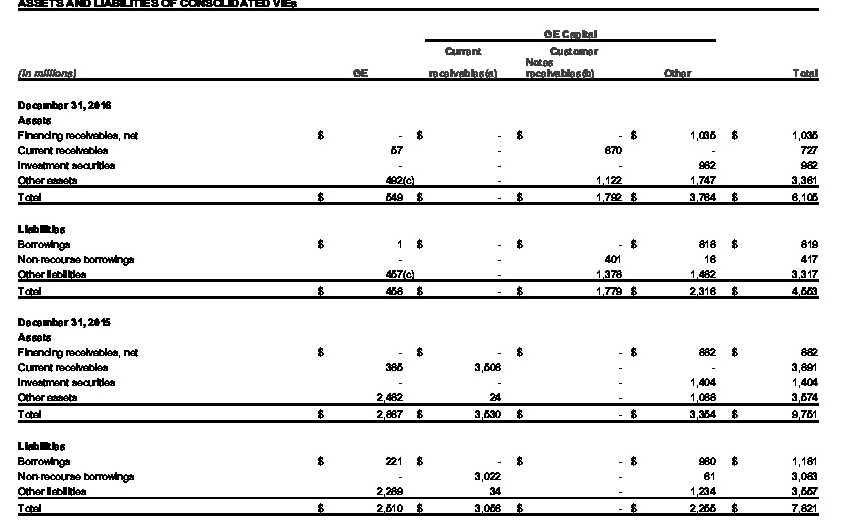table: (0, 0, 842, 530)
